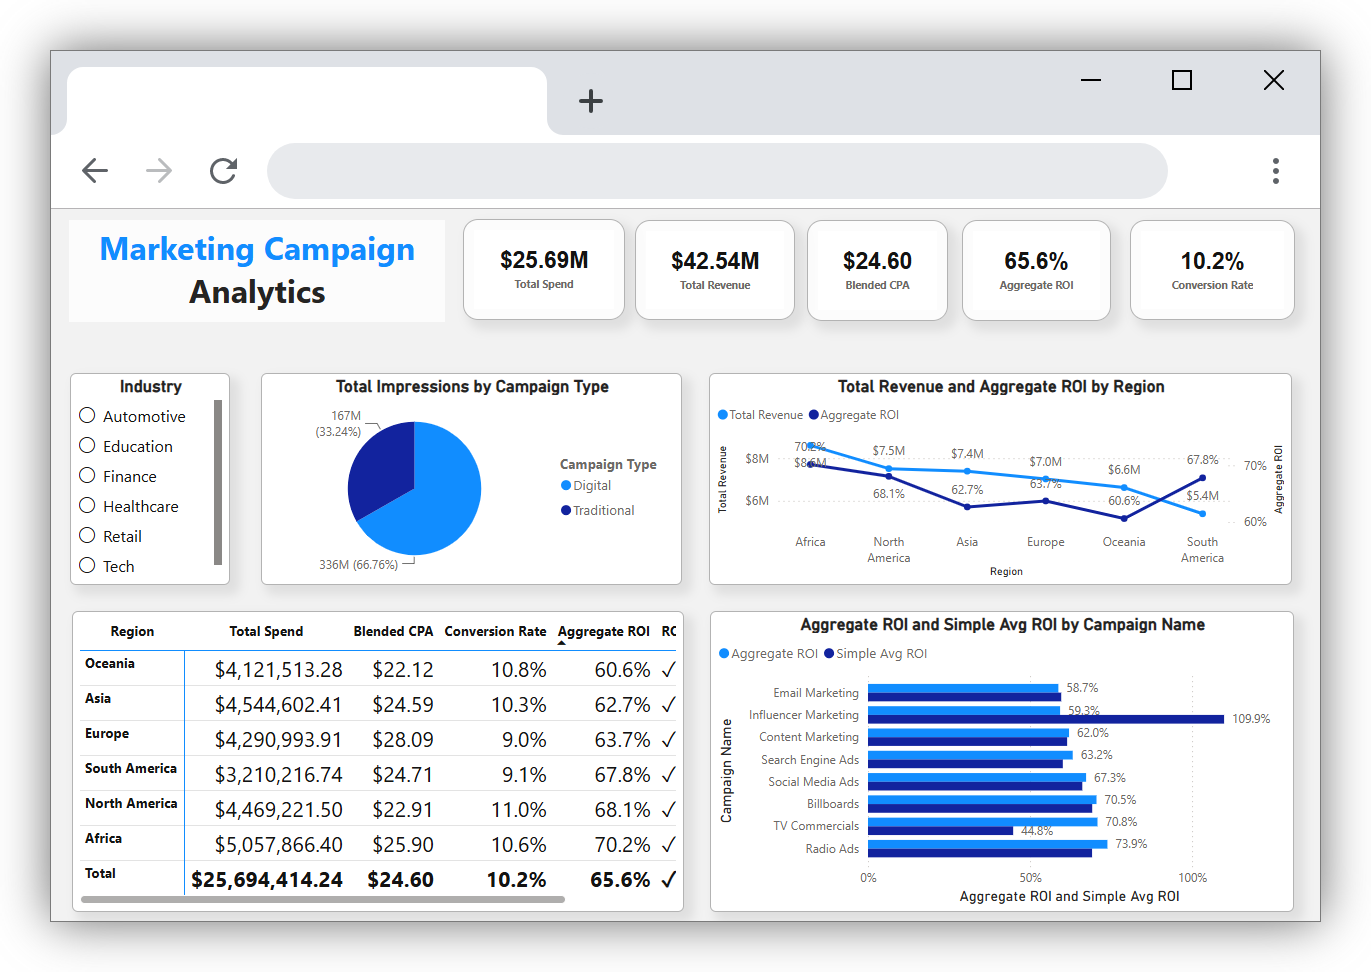

The page's visual inventory and layout, read from the dashboard file:
{"tool":"powerbi","page":{"name":"Page 1","canvas":[1280,720],"ordinal":0},"visuals":[{"type":"cardVisual","fields":{"Data":["_Measures.Total Spend"]},"box":[419,15,162,101],"z":0},{"type":"cardVisual","fields":{"Data":["_Measures.Total Revenue"]},"box":[591,16,160,100],"z":1000},{"type":"cardVisual","fields":{"Data":["_Measures.Blended CPA"]},"box":[763,16,141,101],"z":2000},{"type":"cardVisual","fields":{"Data":["_Measures.Aggregate ROI"]},"box":[918,16,149,101],"z":3000},{"type":"cardVisual","fields":{"Data":["_Measures.Conversion Rate"]},"box":[1086,16,165,100],"z":4000},{"type":"clusteredBarChart","fields":{"Category":["Marketing Campaign Details.Campaign Name"],"Y":["_Measures.Aggregate ROI","_Measures.Simple Avg ROI"]},"box":[666,407,584,301],"z":5000},{"type":"pivotTable","fields":{"Rows":["Marketing Campaign Performance.Region"],"Values":["_Measures.Total Spend","_Measures.Blended CPA","_Measures.Conversion Rate","_Measures.Aggregate ROI","_Measures.ROI Distortion Flag"]},"box":[28,407,612,301],"z":6000},{"type":"listSlicer","fields":{"Values":["Marketing Campaign Performance.Industry"]},"box":[26,169,160,212],"z":7000},{"type":"pieChart","fields":{"Category":["Marketing Campaign Details.Campaign Type"],"Y":["_Measures.Total Impressions"]},"box":[217,169,421,212],"z":8000},{"type":"lineChart","fields":{"Category":["Region Performance.Region"],"Y":["_Measures.Total Revenue"],"Y2":["_Measures.Aggregate ROI"]},"box":[665,169,583,212],"z":9000},{"type":"textbox","box":[25,16,376,102],"z":10000}]}

Visuals, with their boxes on the page's 1280x720 design canvas (x1, y1, x2, y2). These are canvas units, not pixel positions in the 1371x972 screenshot, which may show the page scaled, cropped or inside an application window:
cardVisual - _Measures.Total Spend: 419,15,581,116
cardVisual - _Measures.Total Revenue: 591,16,751,116
cardVisual - _Measures.Blended CPA: 763,16,904,117
cardVisual - _Measures.Aggregate ROI: 918,16,1067,117
cardVisual - _Measures.Conversion Rate: 1086,16,1251,116
clusteredBarChart - Marketing Campaign Details.Campaign Name x _Measures.Aggregate ROI: 666,407,1250,708
pivotTable - Marketing Campaign Performance.Region x _Measures.Total Spend: 28,407,640,708
listSlicer - Marketing Campaign Performance.Industry: 26,169,186,381
pieChart - Marketing Campaign Details.Campaign Type x _Measures.Total Impressions: 217,169,638,381
lineChart - Region Performance.Region x _Measures.Total Revenue: 665,169,1248,381
textbox: 25,16,401,118
